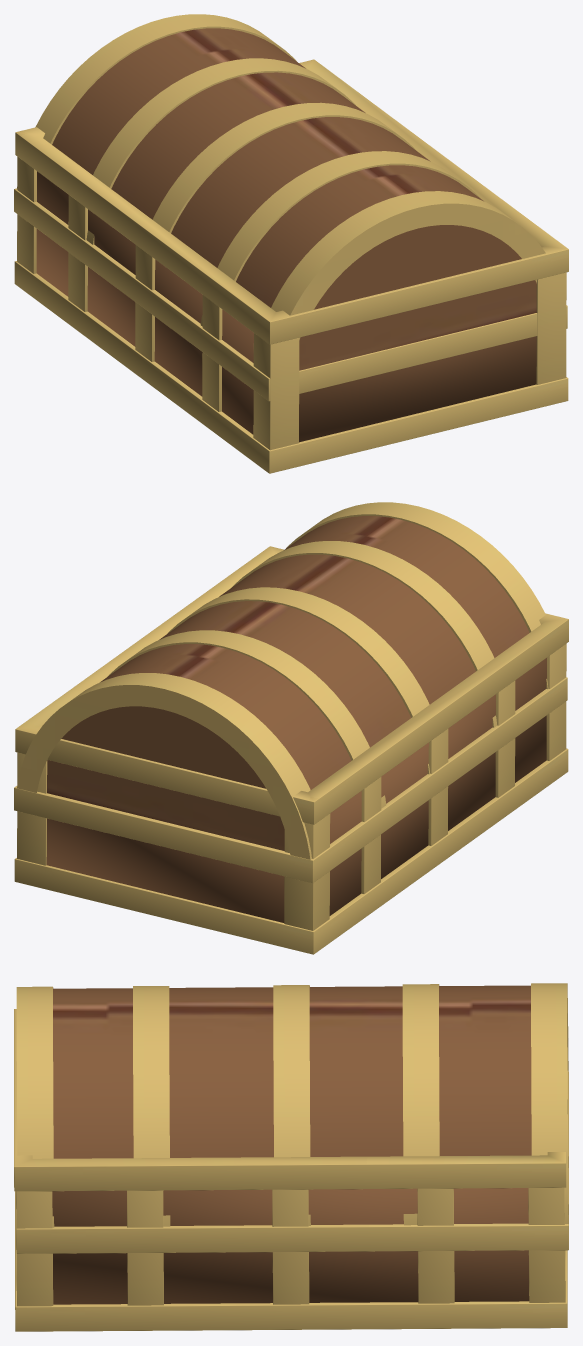
File: Coffre_fort.fbx
3 views of the same model, one above another, from view 1: azimuth 30°, elevation 25°; view 2: azimuth 150°, elevation 25°; view 3: azimuth 270°, elevation 25° (orthographic). The views are drawn at different scales.
Visible parts, largest first — view 1: Tube_2_2, Boite, Cube_3, Cylinder_3, Cube_1, Cube, Tube_2, Tube_3, Tube_4, Tube, Tube_5, Renfort_angle_1 (+5 smaller); view 2: Tube_2_2, Boite, Cube_3, Cylinder_1, Cube, Cube_1, Tube_5, Tube_3, Tube_4, Tube, Tube_2, Renfort_angle_3 (+5 smaller); view 3: Tube_2_2, Boite, Cube_3, Cube_1, Cube, Tube_5, Tube_3, Tube_4, Tube, Tube_2, Renfort_angle, renfort1 (+3 smaller).
Boxes of the visible parts, box(x1,y1,x2,y2) form: Tube_2_2: box(52, 28, 483, 307); Boite: box(36, 171, 536, 442); Cube_3: box(15, 59, 568, 344); Cylinder_3: box(299, 225, 536, 370); Cube_1: box(14, 261, 568, 473); Cube: box(14, 188, 567, 401); Tube_2: box(271, 191, 545, 339); Tube_3: box(86, 58, 355, 244); Tube_4: box(200, 151, 480, 326); Tube: box(152, 102, 415, 233); Tube_5: box(17, 14, 296, 188); Renfort_angle_1: box(253, 333, 299, 450); Tube_2_2: box(100, 516, 529, 789); Boite: box(46, 658, 546, 922); Cube_3: box(15, 546, 568, 824); Cylinder_1: box(47, 706, 284, 850); Cube: box(14, 677, 567, 883); Cube_1: box(14, 748, 568, 954); Tube_5: box(17, 673, 311, 859); Tube_3: box(107, 630, 386, 808); Tube_4: box(232, 541, 497, 727); Tube: box(167, 587, 429, 774); Tube_2: box(286, 502, 548, 689); Renfort_angle_3: box(284, 813, 330, 930); Tube_2_2: box(53, 985, 531, 1158); Boite: box(52, 1188, 529, 1304); Cube_3: box(14, 1009, 566, 1191); Cube_1: box(15, 1191, 567, 1331); Cube: box(16, 1071, 568, 1253); Tube_5: box(531, 983, 568, 1223); Tube_3: box(402, 984, 439, 1225); Tube_4: box(133, 986, 170, 1226); Tube: box(273, 985, 310, 1225); Tube_2: box(16, 986, 54, 1227); Renfort_angle: box(16, 1191, 53, 1306); renfort1: box(417, 1188, 454, 1303).
Bounding box in the file's own units: 4198 × 3124 × 6227.
